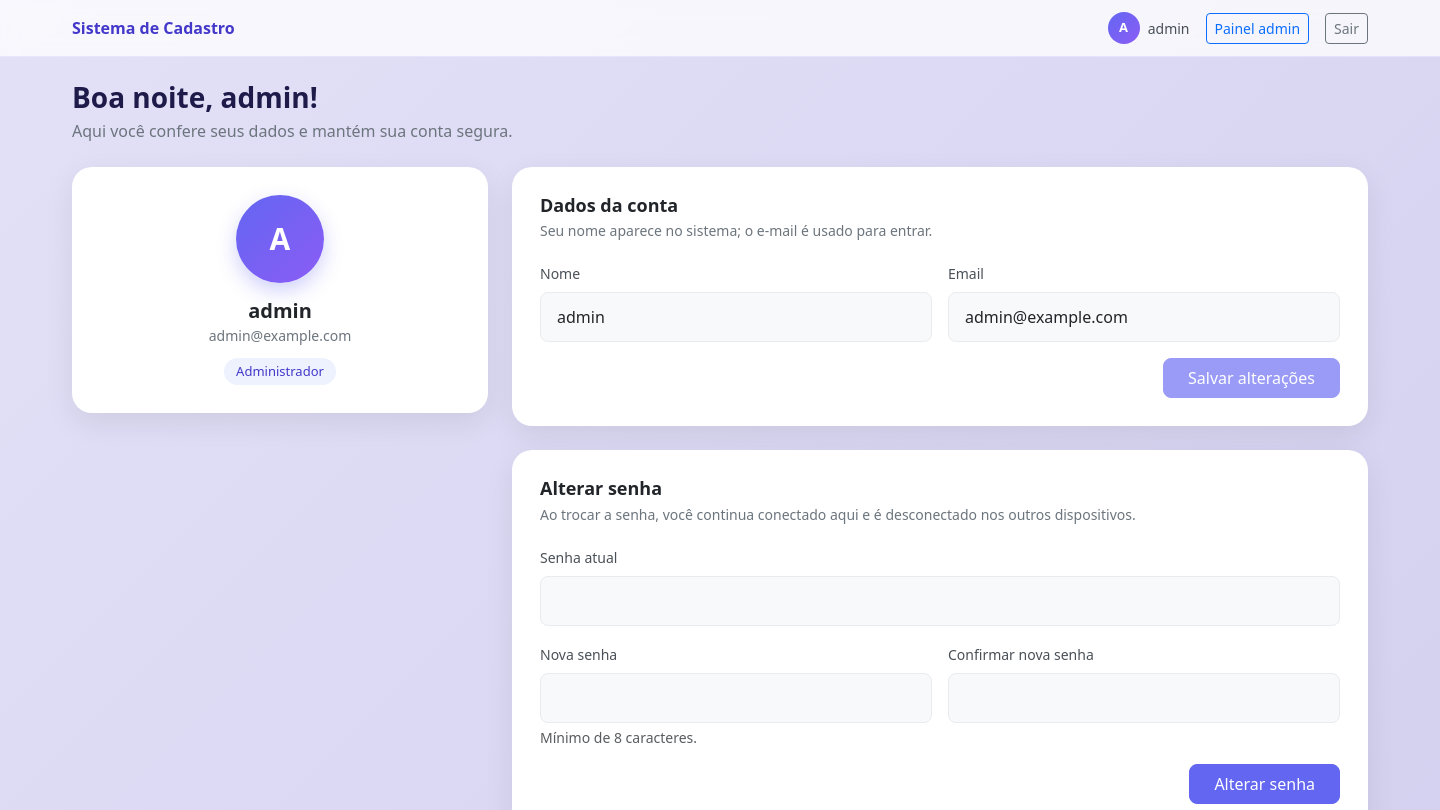
it: home do usuário › admin volta ao painel pelo cabeçalho
Click the link "Painel admin" at (1257, 28), box [1206,12,1309,44]
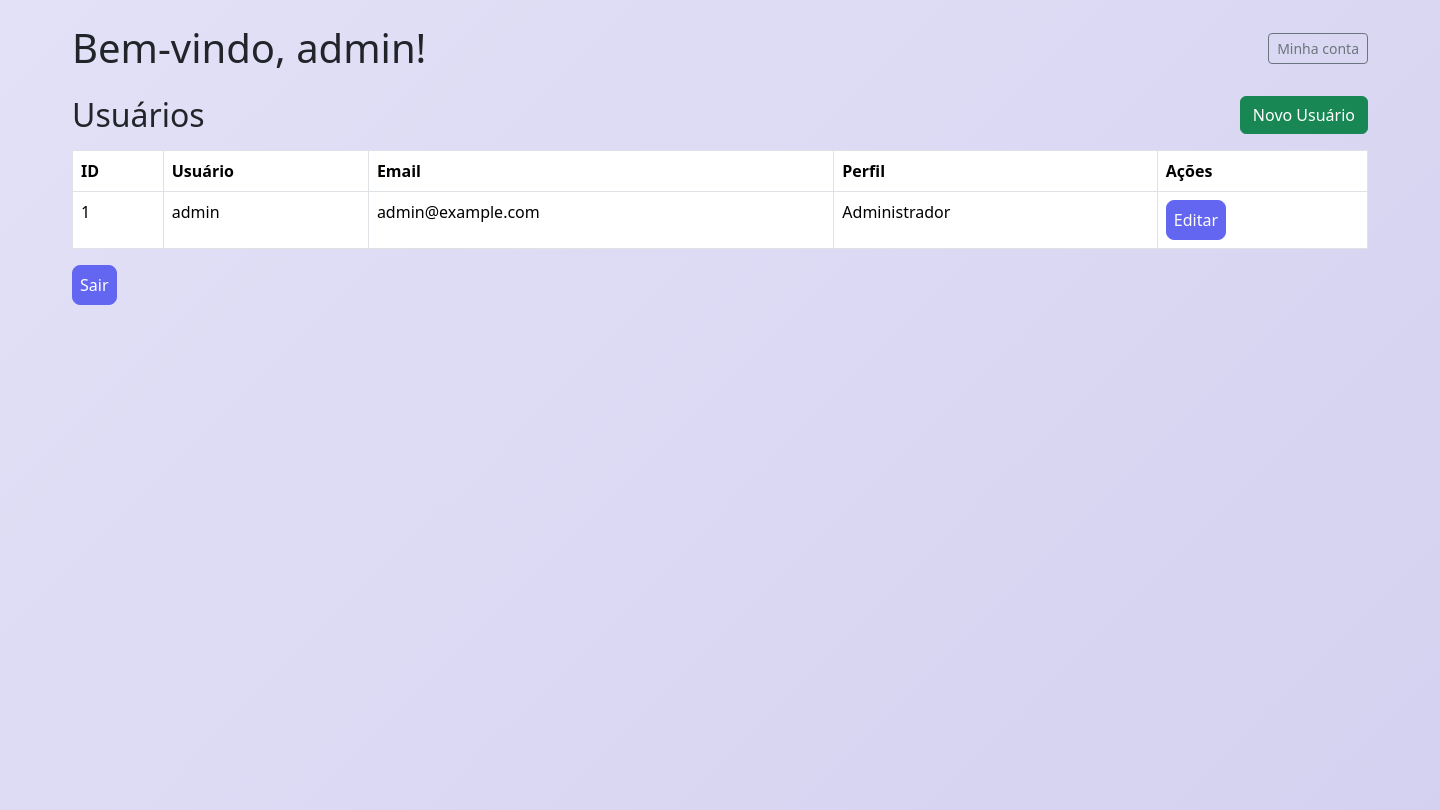
Expected: the heading "Usuários" is shown, [72,96,205,134]
